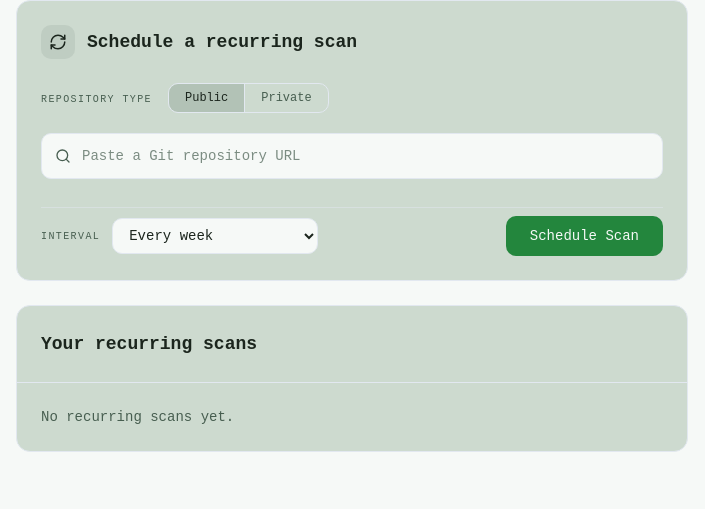
Test: RecurringForm › shows an error message when createRecursiveScanAction fails
Type "not-a-url" into the field with placeholder "Paste a Git repository URL" at {"x": 352, "y": 156}, box [41,133,663,179]
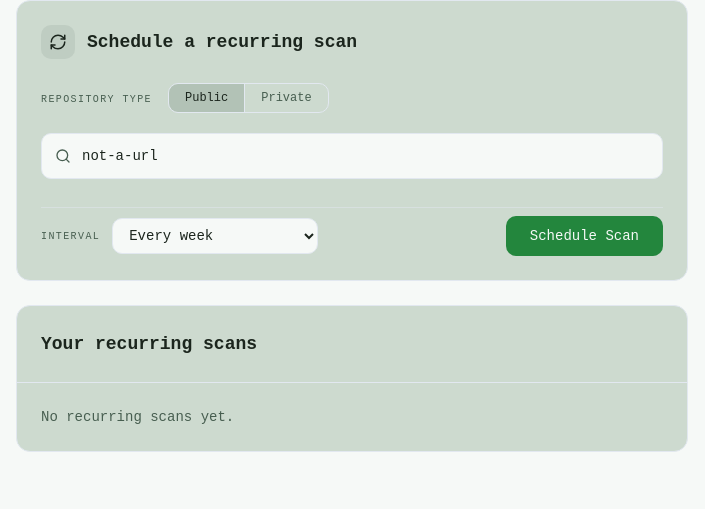
Click the button "Schedule Scan" at {"x": 584, "y": 236}, box [506,216,663,256]
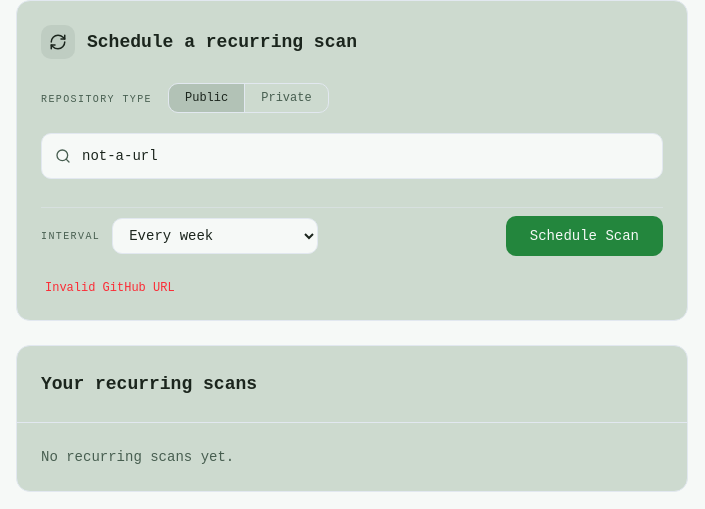
Expected: the text "Invalid GitHub URL" is shown, [45,281,175,295]
